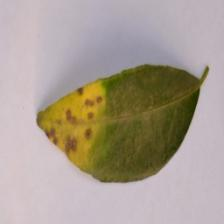canker: (33, 74, 108, 162)
